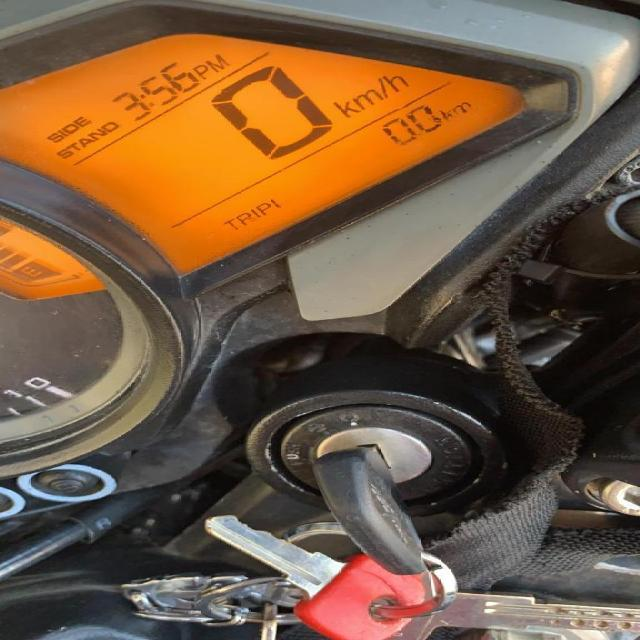odometer: (0, 25, 543, 287)
